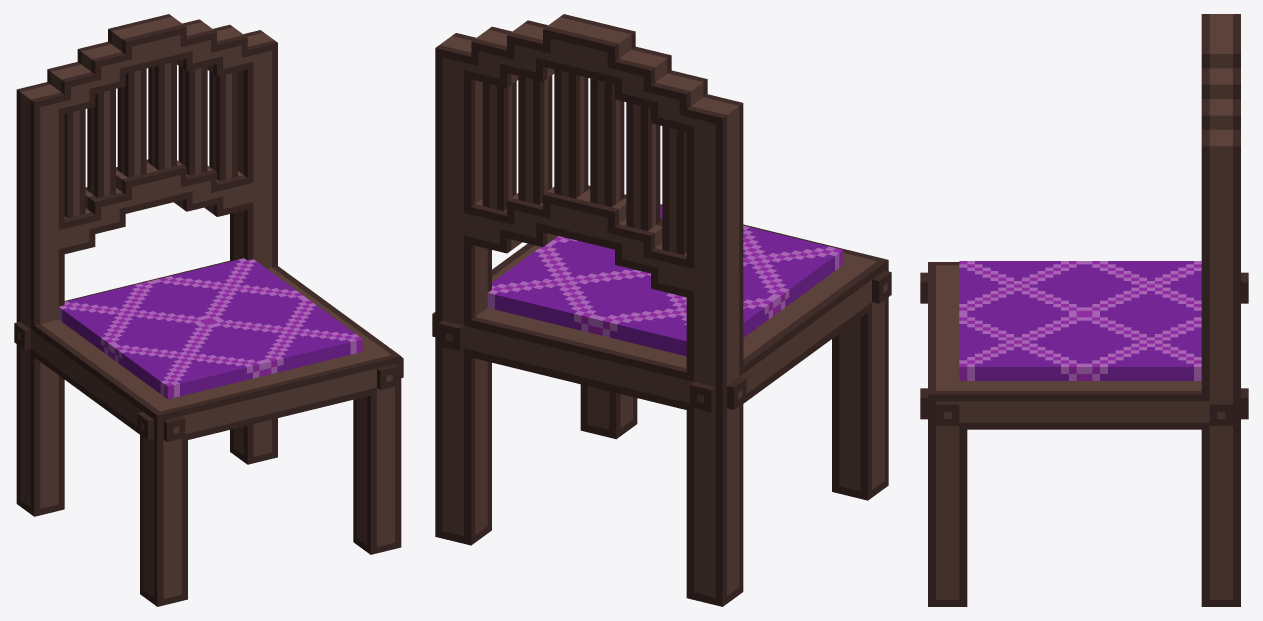
File: Things-1-Chair.obj
The picture shows the model from 3 angles, left to right: view 1: azimuth 30°, elevation 25°; view 2: azimuth 150°, elevation 25°; view 3: azimuth 270°, elevation 25°; orthographic projection. The views are drawn at different scales.
Visible parts, largest first — view 1: Chair; view 2: Chair; view 3: Chair.
Boxes of the visible parts, <box> form: Chair: <box>14,14,403,606</box>; Chair: <box>432,14,891,606</box>; Chair: <box>920,14,1248,606</box>.
Bounding box in the file's own units: 4.2 × 7.1 × 4.2.
Materials: 1 (1 with a texture image).
